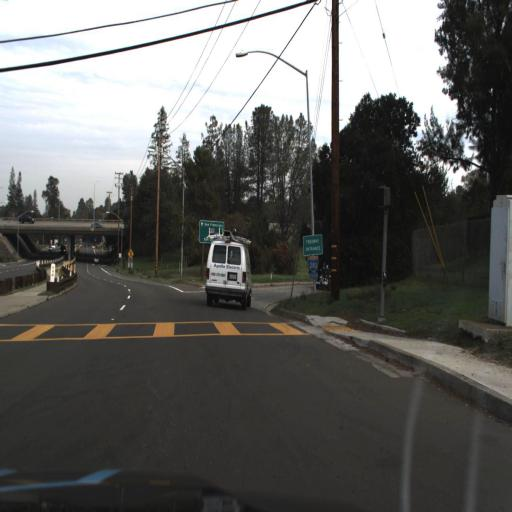car: (204, 231, 254, 301), (18, 213, 36, 226)
